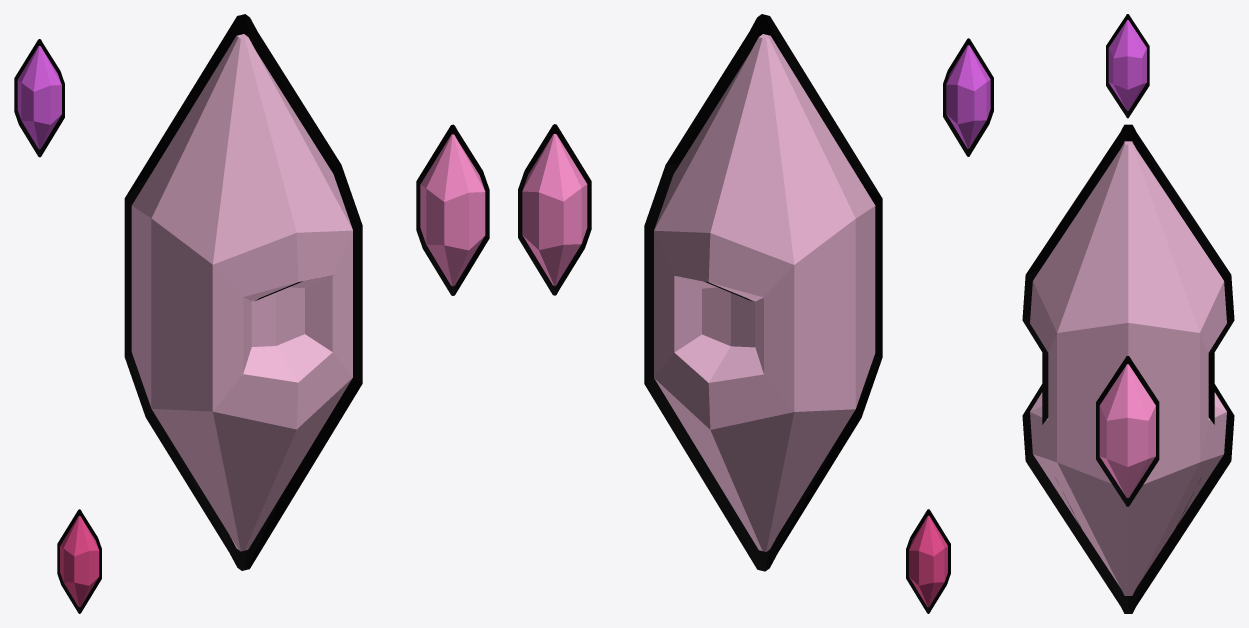
File: Inimigo-Prisma.fbx
3 views of the same model, side by side, from view 1: azimuth 30°, elevation 25°; view 2: azimuth 150°, elevation 25°; view 3: azimuth 270°, elevation 25° (orthographic). The views are drawn at different scales.
Parts seen in each view (by area): view 1: Prisma principal.001; view 2: Prisma principal.001; view 3: Prisma principal.001.
Boxes of the visible parts, x1,y1,x2,y2 form: Prisma principal.001: (14, 14, 489, 613); Prisma principal.001: (518, 14, 993, 613); Prisma principal.001: (1022, 14, 1234, 613).
Bounding box in the file's own units: 561 × 674 × 252.
